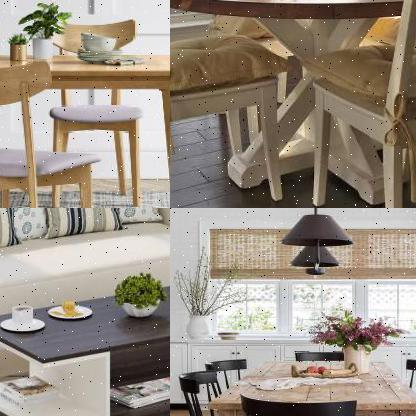table: (170, 0, 415, 207), (0, 45, 169, 207), (0, 272, 169, 415), (196, 355, 415, 415)
